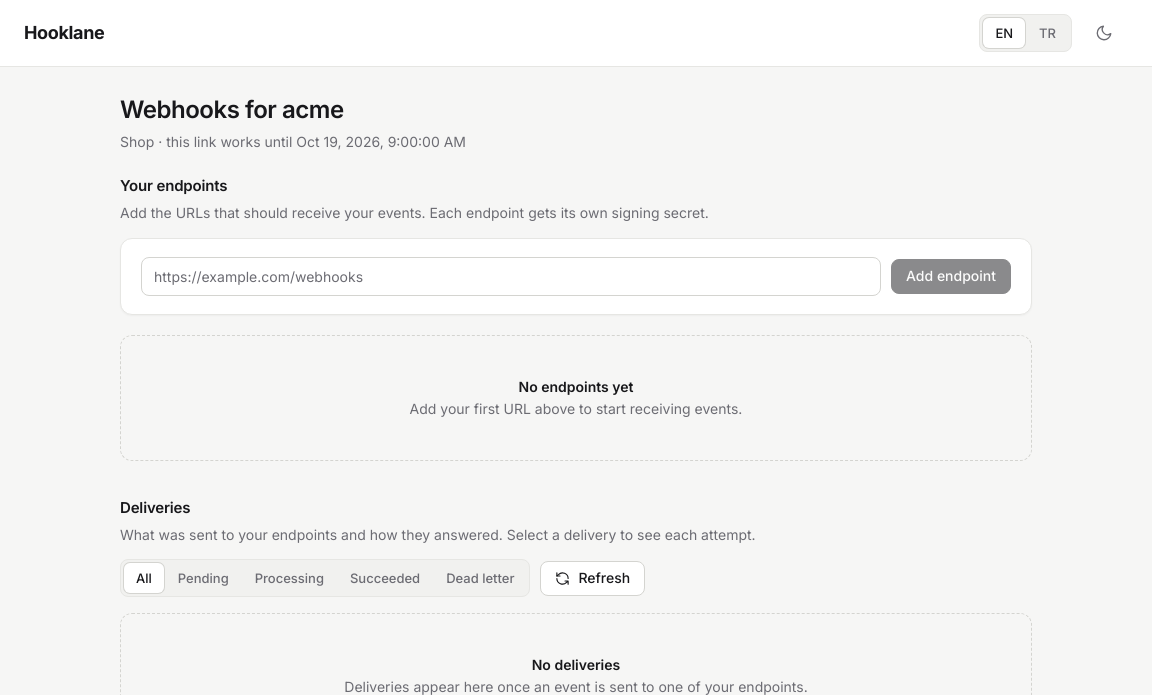
Test: PortalPage › adds an endpoint and shows its signing secret once
Type "https://acme.example/hook" into the field named "Endpoint URL" at (511, 276), box [141,256,881,296]
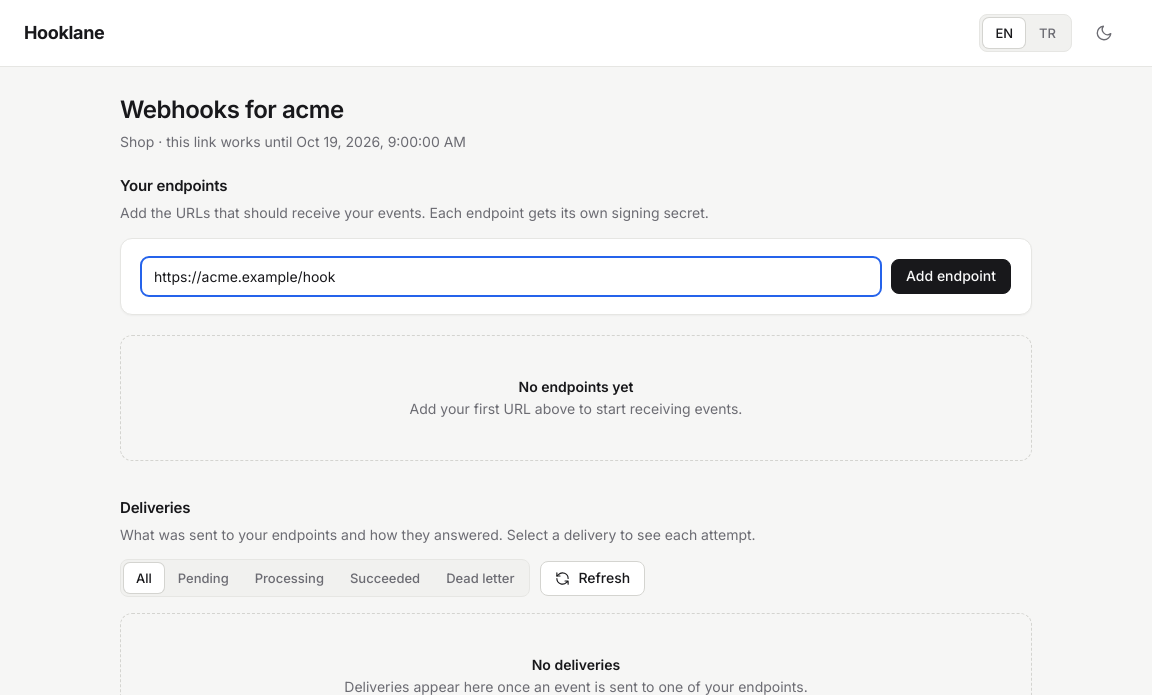
Click the button "Add endpoint" at (951, 276), box [891,259,1011,294]
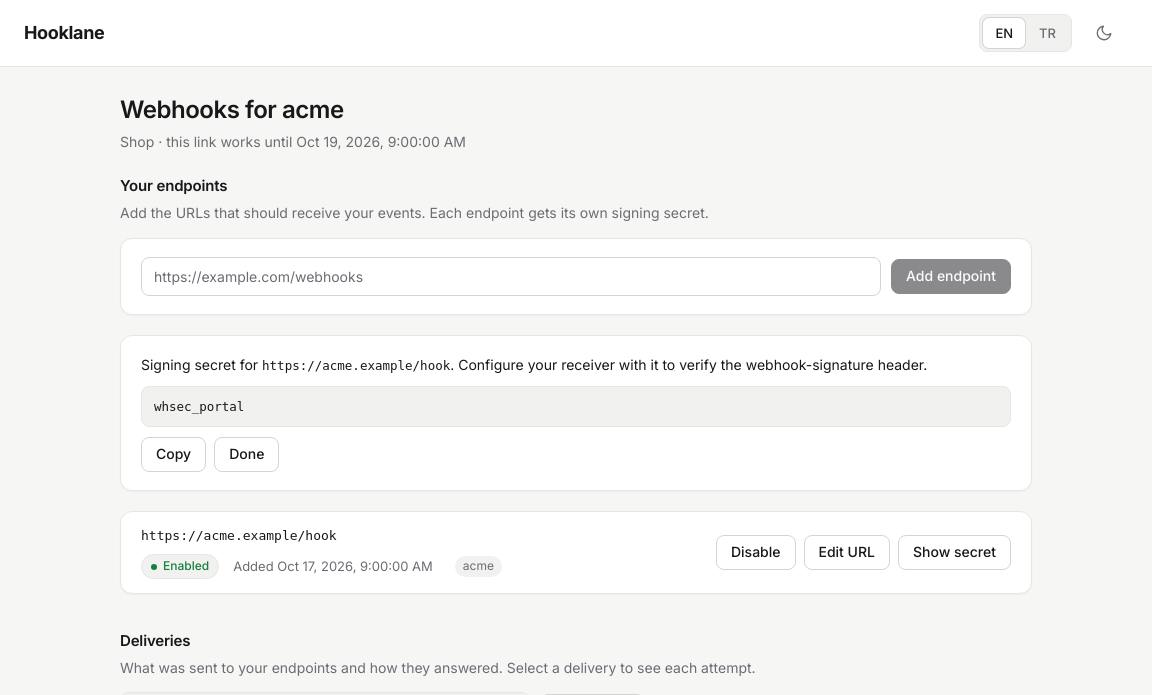
Expected: the text "whsec_portal" is shown, [141,386,1011,427]
